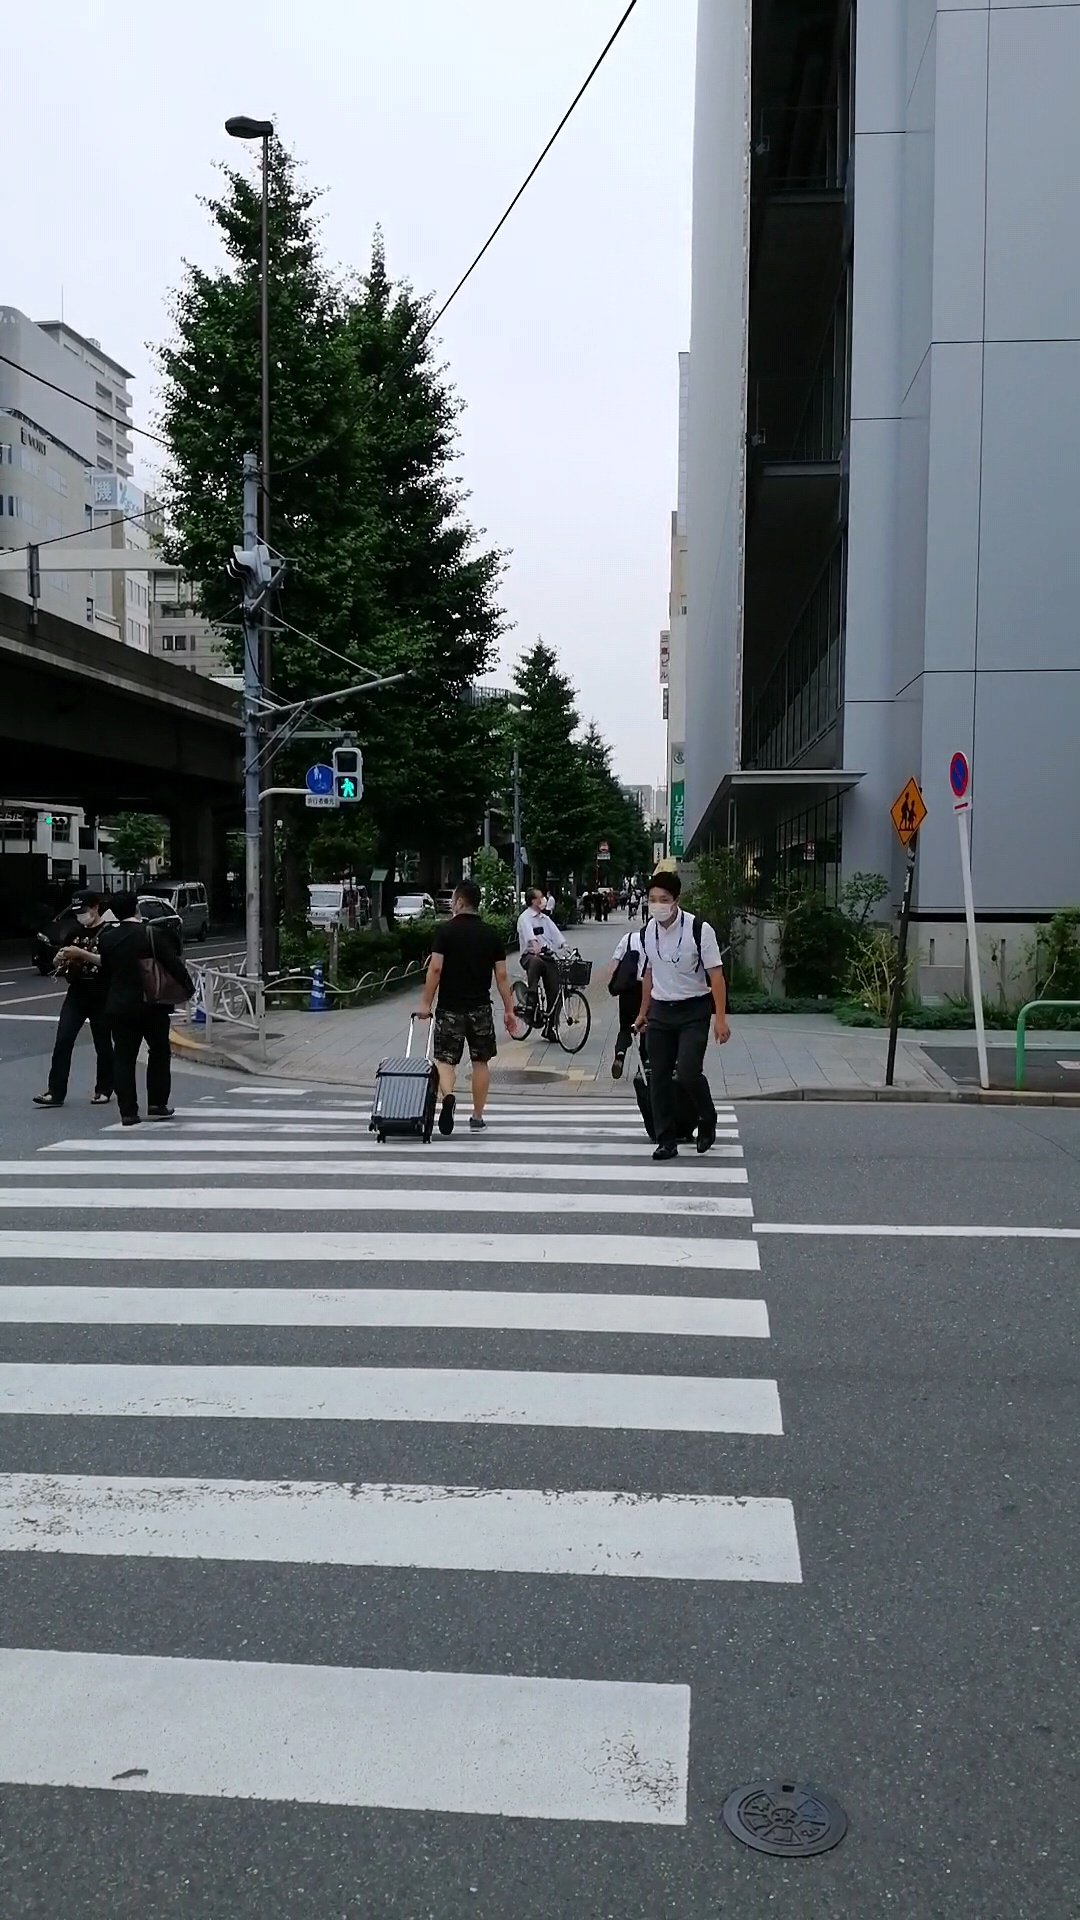green: (332, 746, 361, 800)
